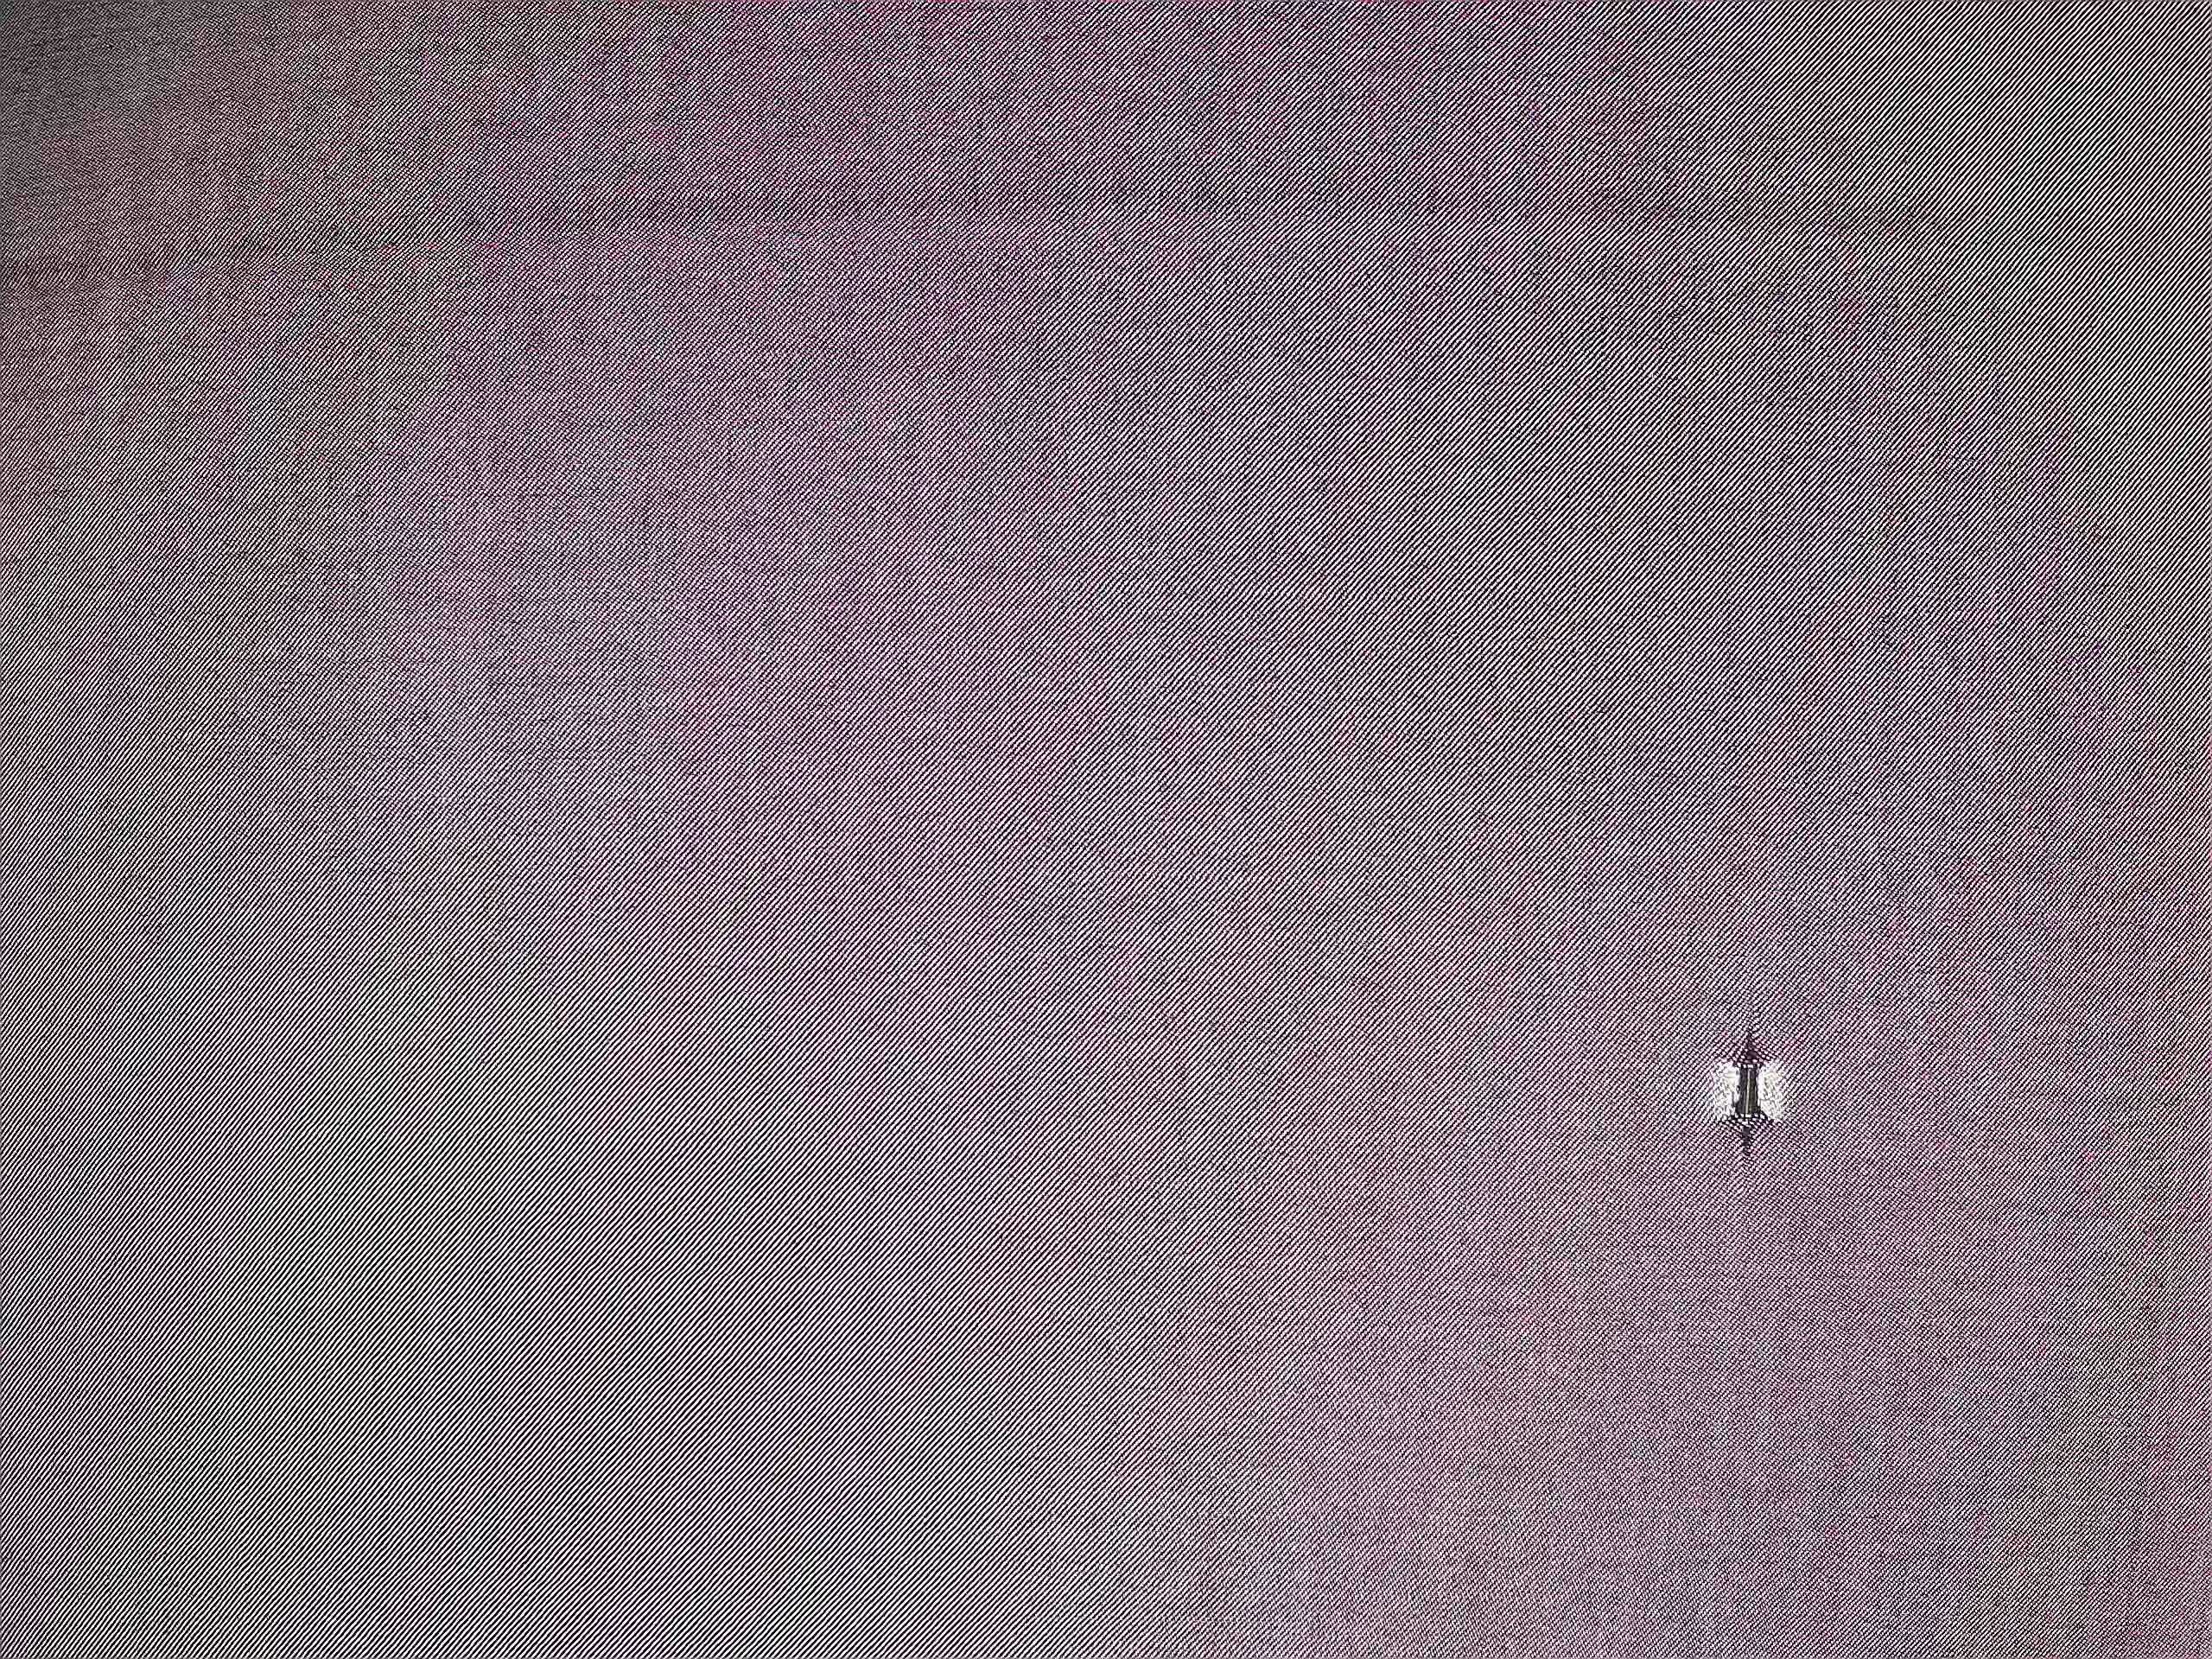rubbing-hole: (1698, 1000, 1804, 1175)
